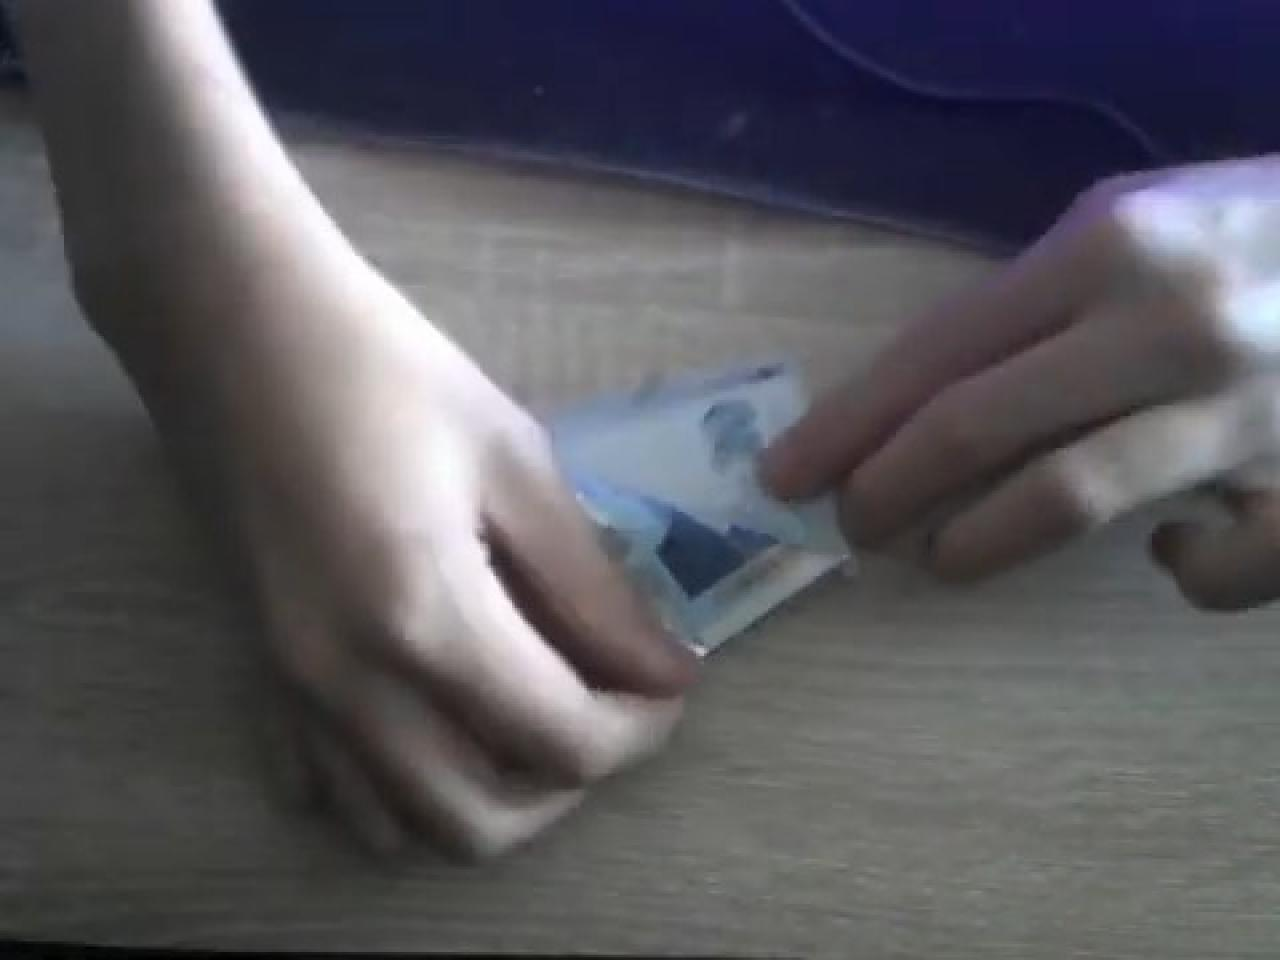20leva: (544, 357, 856, 658)
